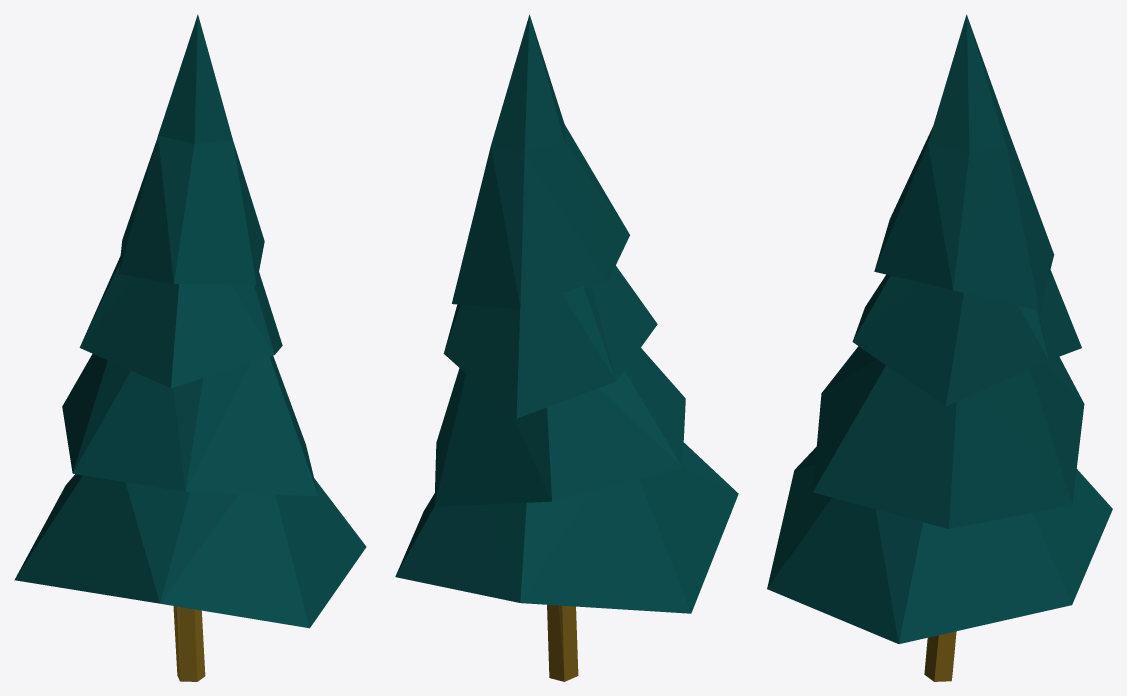
The model's file is world_1_tree_medium.dae.
3 renders of one model, left to right at view 1: azimuth 30°, elevation 25°; view 2: azimuth 150°, elevation 25°; view 3: azimuth 270°, elevation 25°, orthographic. The views are drawn at different scales.
Visible parts, largest first — view 1: medium_pine_leaves, medium_pine_base; view 2: medium_pine_leaves, medium_pine_base; view 3: medium_pine_leaves, medium_pine_base.
Boxes of the visible parts, bbox=[...] form: medium_pine_leaves: bbox=[14, 14, 366, 628]; medium_pine_base: bbox=[173, 606, 205, 681]; medium_pine_leaves: bbox=[395, 14, 738, 613]; medium_pine_base: bbox=[547, 604, 578, 681]; medium_pine_leaves: bbox=[767, 14, 1112, 643]; medium_pine_base: bbox=[924, 631, 956, 681].
Size of the model in its own units: 2.63 by 2.48 by 5.33.
